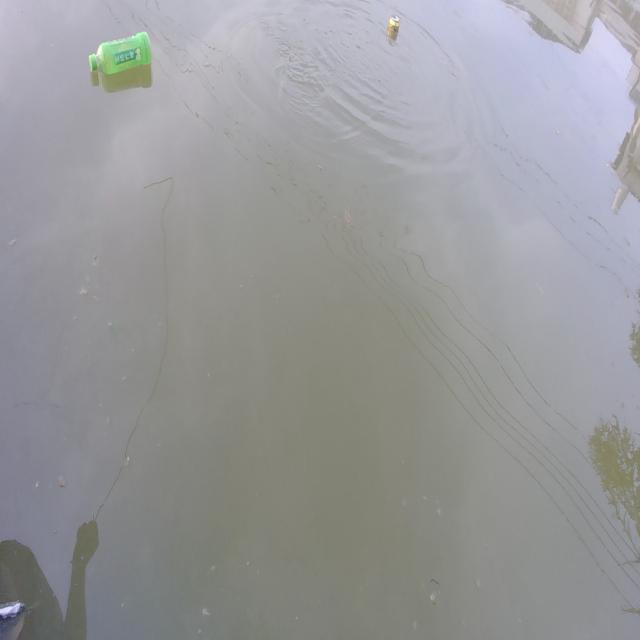bottle: (80, 16, 160, 88)
